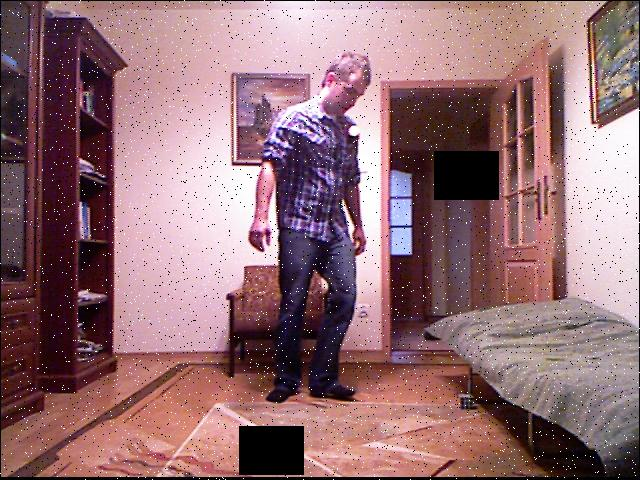standing: (246, 29, 396, 411)
